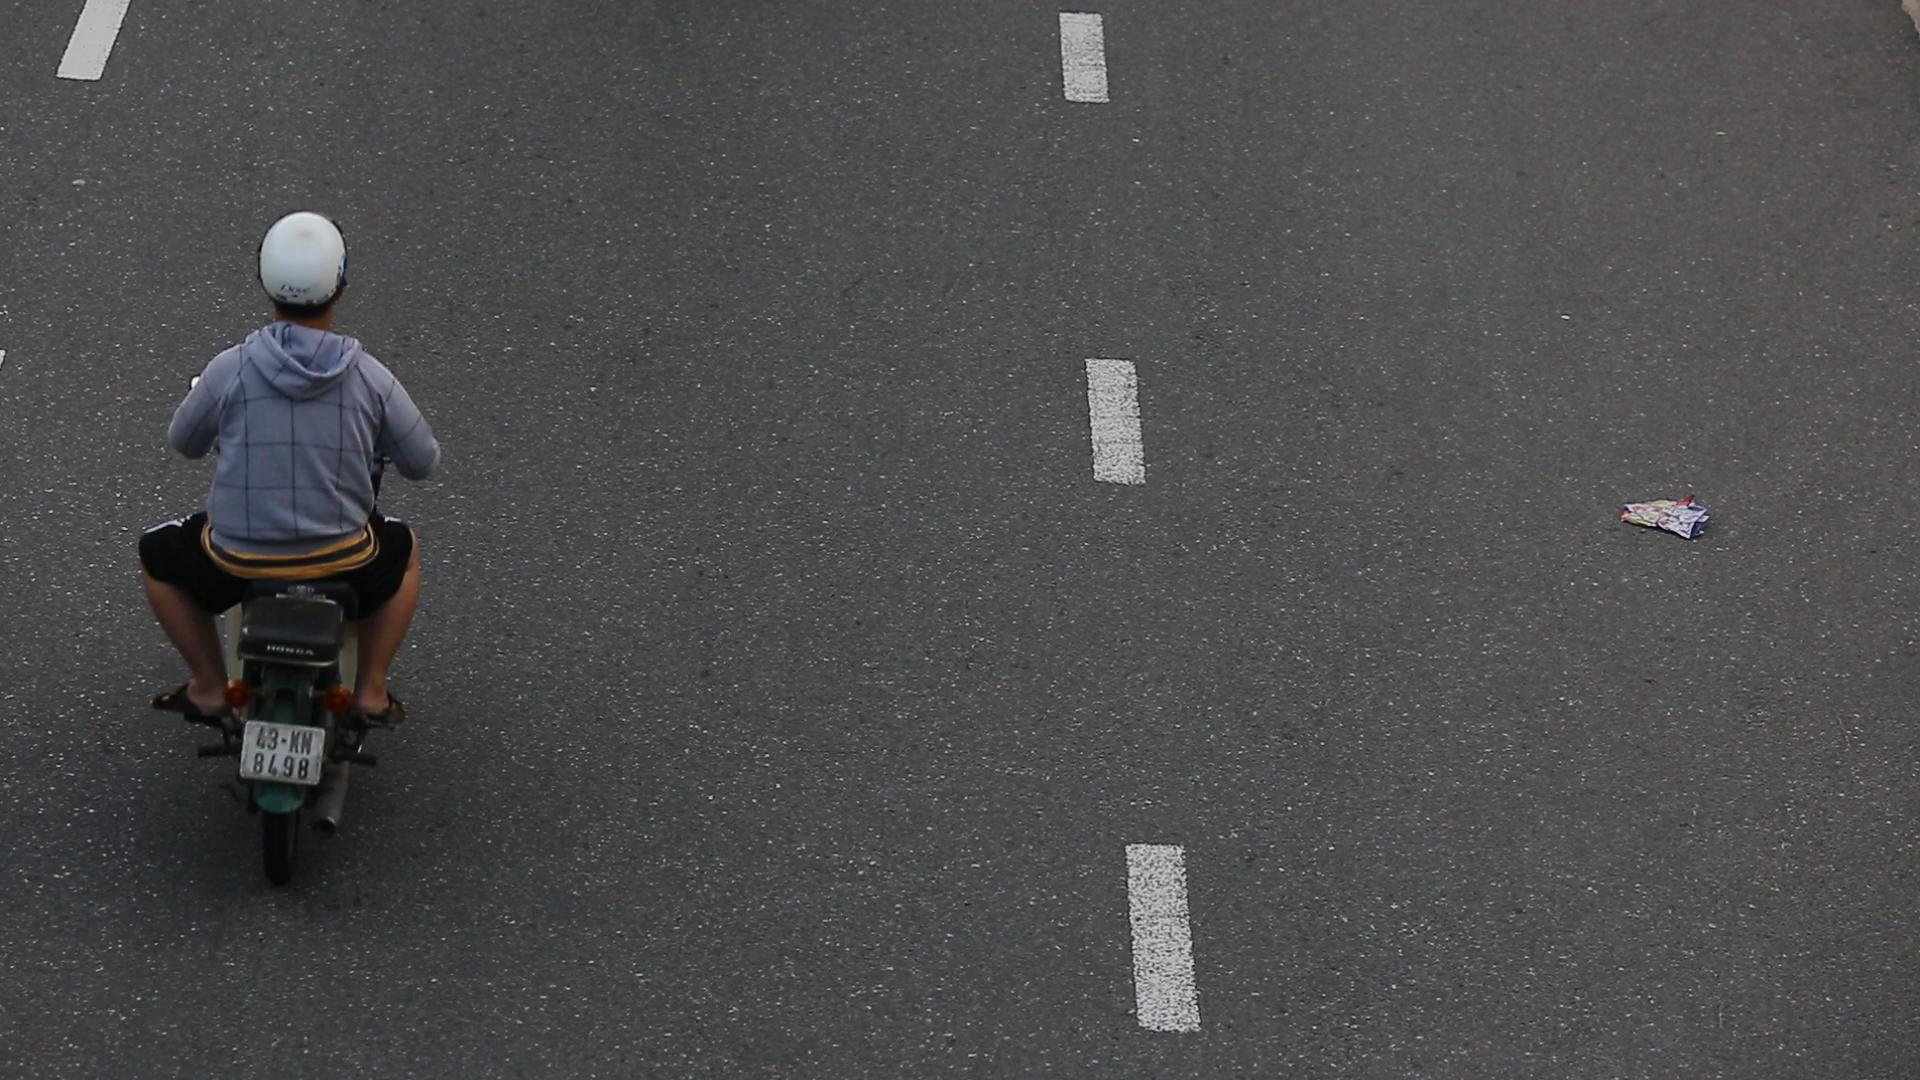motobike: (121, 208, 448, 913)
